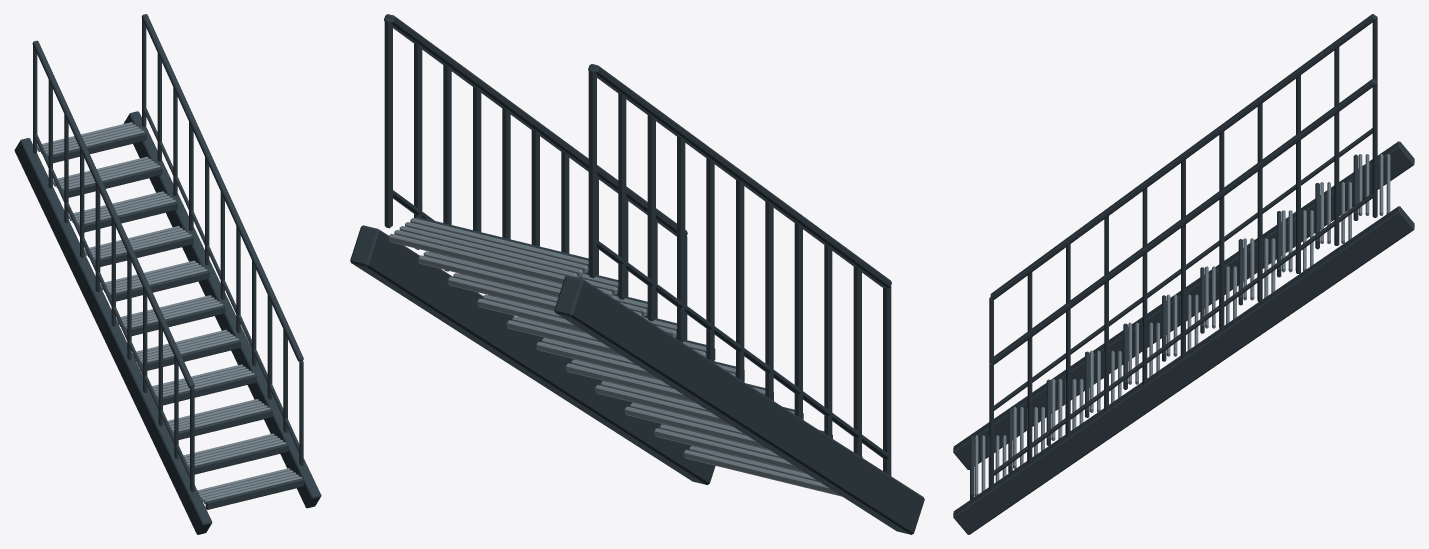
The model's file is b12_fire_escape_stair_flight.glb.
3 renders of one model, left to right at view 1: azimuth 30°, elevation 25°; view 2: azimuth 150°, elevation 25°; view 3: azimuth 270°, elevation 25°, orthographic. The views are drawn at different scales.
Visible parts, largest first — view 1: b12_fire_escape_stair_flight; view 2: b12_fire_escape_stair_flight; view 3: b12_fire_escape_stair_flight.
Boxes of the visible parts, <box> form: b12_fire_escape_stair_flight: <box>14,14,321,534</box>; b12_fire_escape_stair_flight: <box>350,14,924,534</box>; b12_fire_escape_stair_flight: <box>953,14,1414,534</box>.
Bounding box in the file's own units: 1.02 × 3.06 × 2.82.
